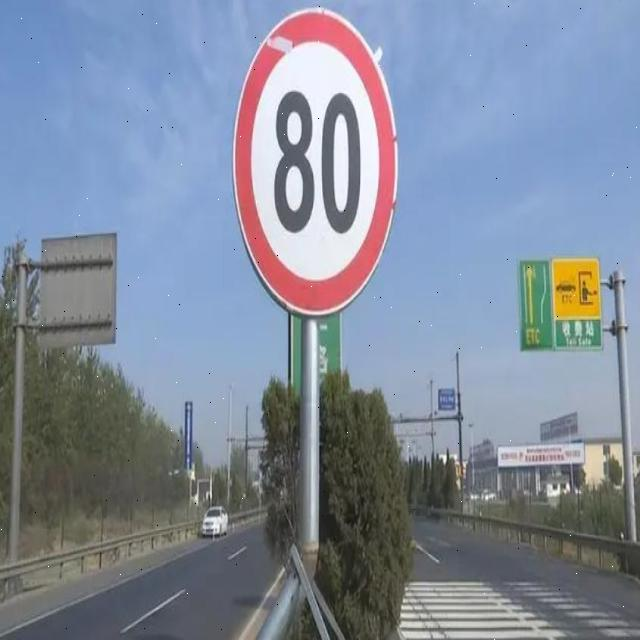speed limit 80: (235, 6, 398, 313)
